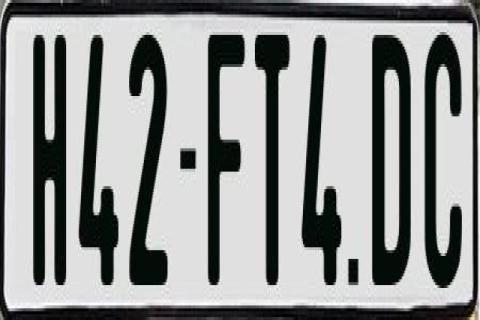0: (78, 26, 122, 291), (302, 26, 342, 288), (126, 29, 164, 288)
C: (424, 26, 462, 294)
D: (369, 26, 413, 288)
F: (206, 29, 249, 285)
H: (33, 26, 70, 294)
T: (253, 32, 287, 285)
